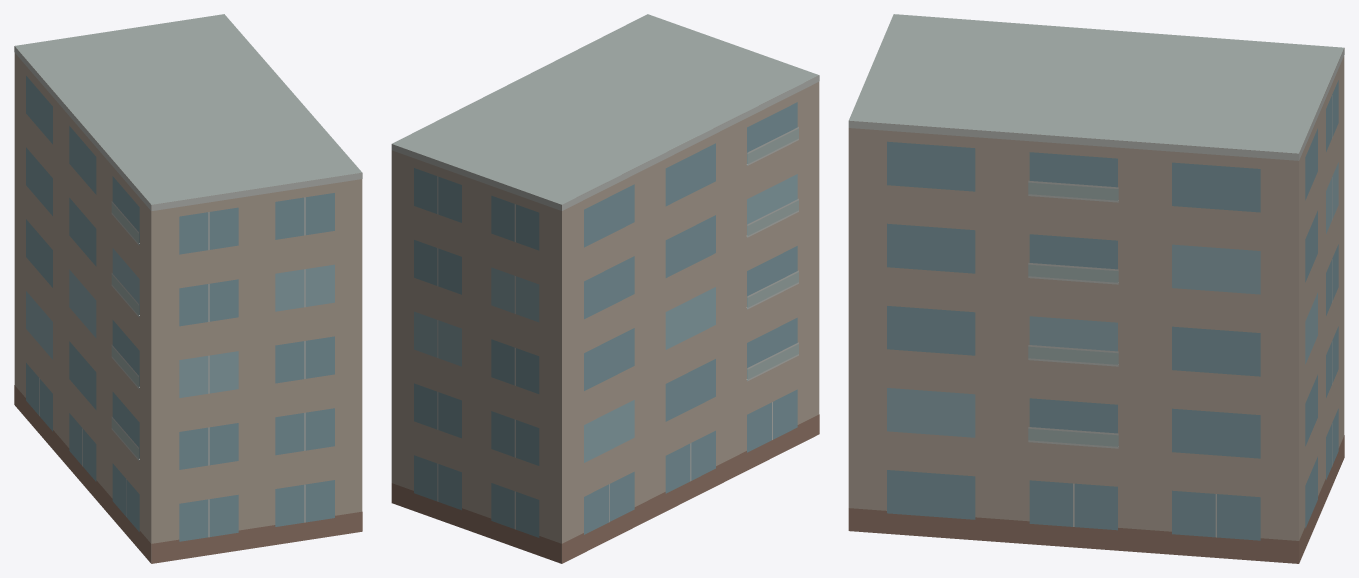
File: survey-upis-32884247.glb
3 views of the same model, side by side, from view 1: azimuth 30°, elevation 25°; view 2: azimuth 150°, elevation 25°; view 3: azimuth 270°, elevation 25° (orthographic). The views are drawn at different scales.
Parts seen in each view (by area): view 1: survey-upis-32884247.tmp; view 2: survey-upis-32884247.tmp; view 3: survey-upis-32884247.tmp.
Boxes of the visible parts, x1,y1,x2,y2 form: survey-upis-32884247.tmp: (14, 14, 362, 563); survey-upis-32884247.tmp: (391, 14, 819, 563); survey-upis-32884247.tmp: (848, 14, 1344, 563).
Bounding box in the file's own units: 10.08 × 13.8 × 15.12.
